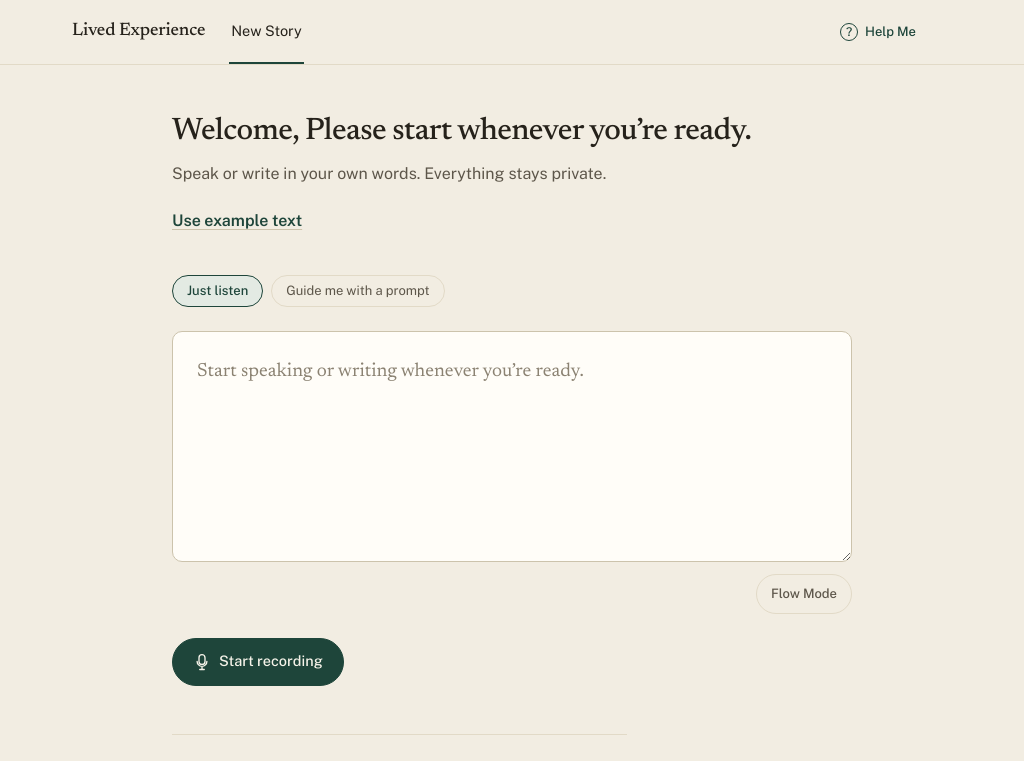
Test: App capture integration › uses the current story for another prompt without inserting AI text
Type "I remember a fictional workshop beside the old market." into the text box named "Write or edit your story" at (512, 446), box [172,331,852,562]
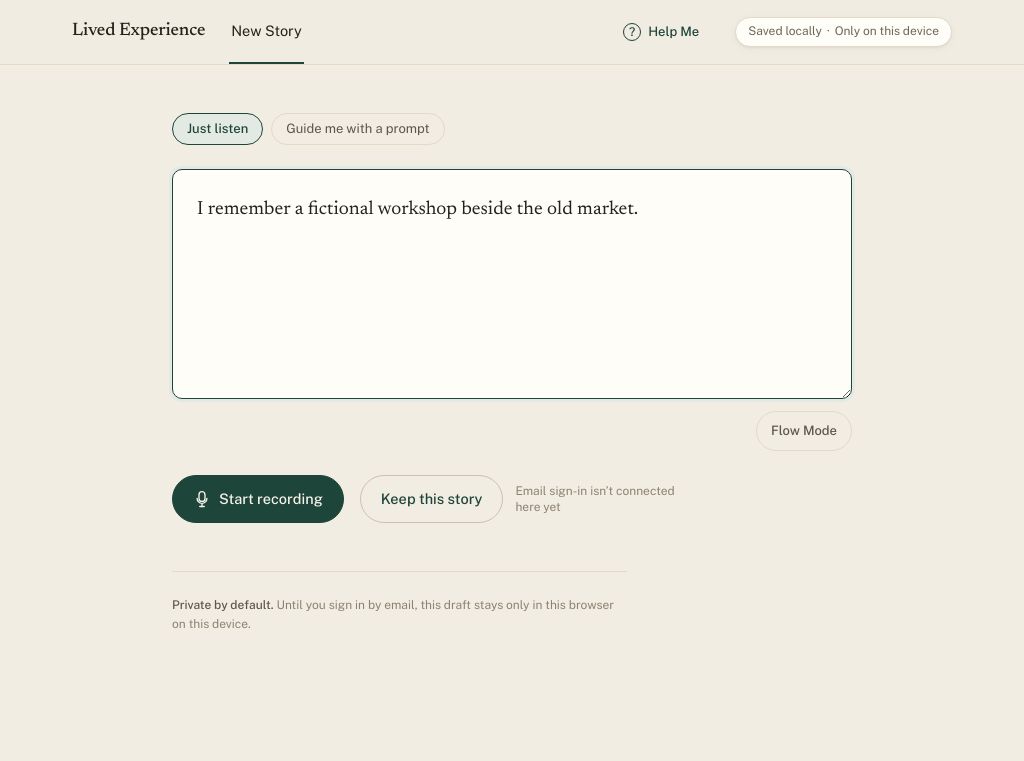
Now the text "Saved locally" is shown, box [748,24,822,40]
Click the button "Guide me with a prompt" at (358, 129), box [271,113,445,145]
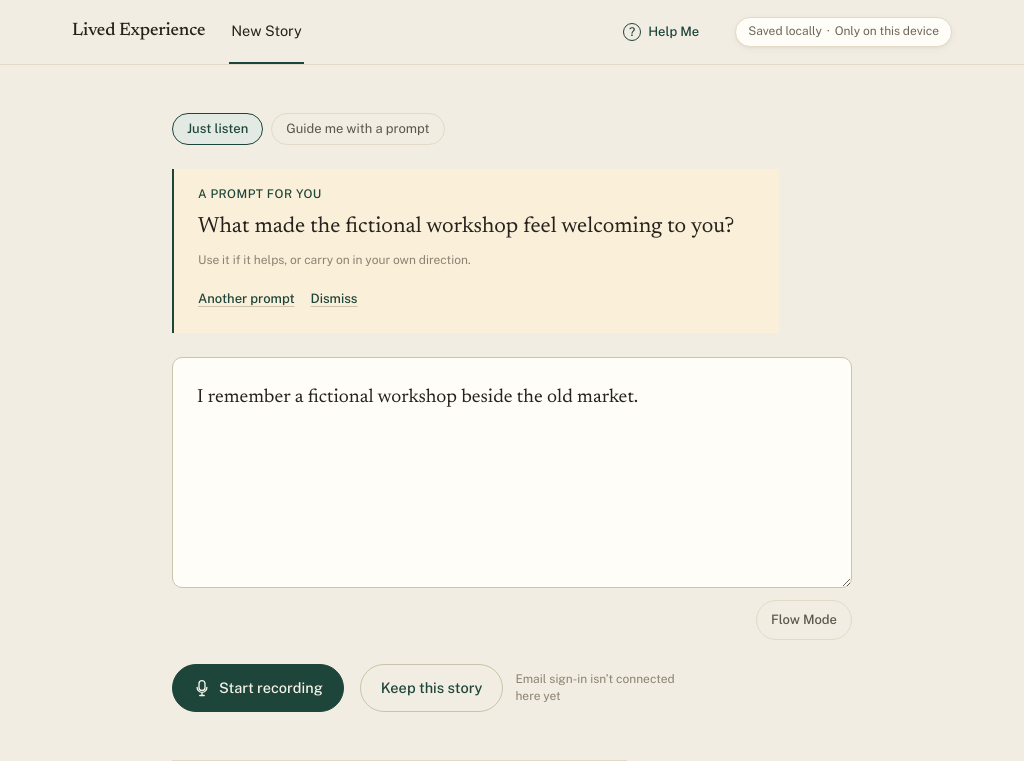
Now the text "What made the fictional workshop feel welcoming to you?" is shown, box [198,212,755,244]
Click the button "Another prompt" at (246, 300), box [198,282,295,318]
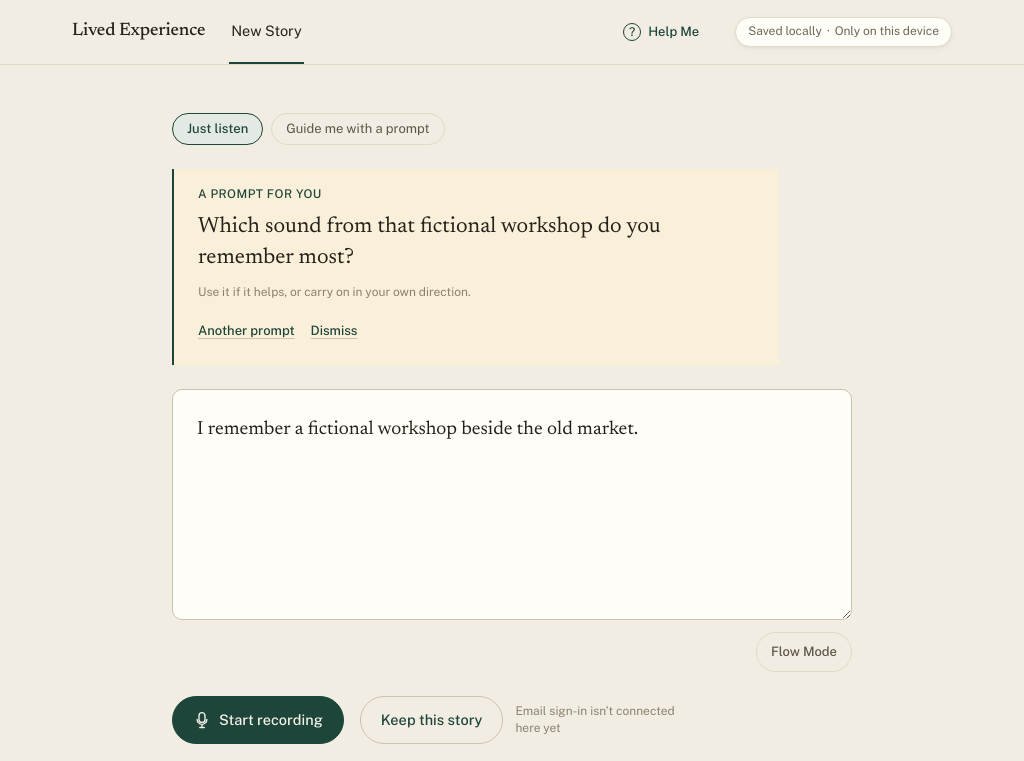
Now the text "Which sound from that fictional workshop do you remember most?" is shown, box [198,216,661,270]
